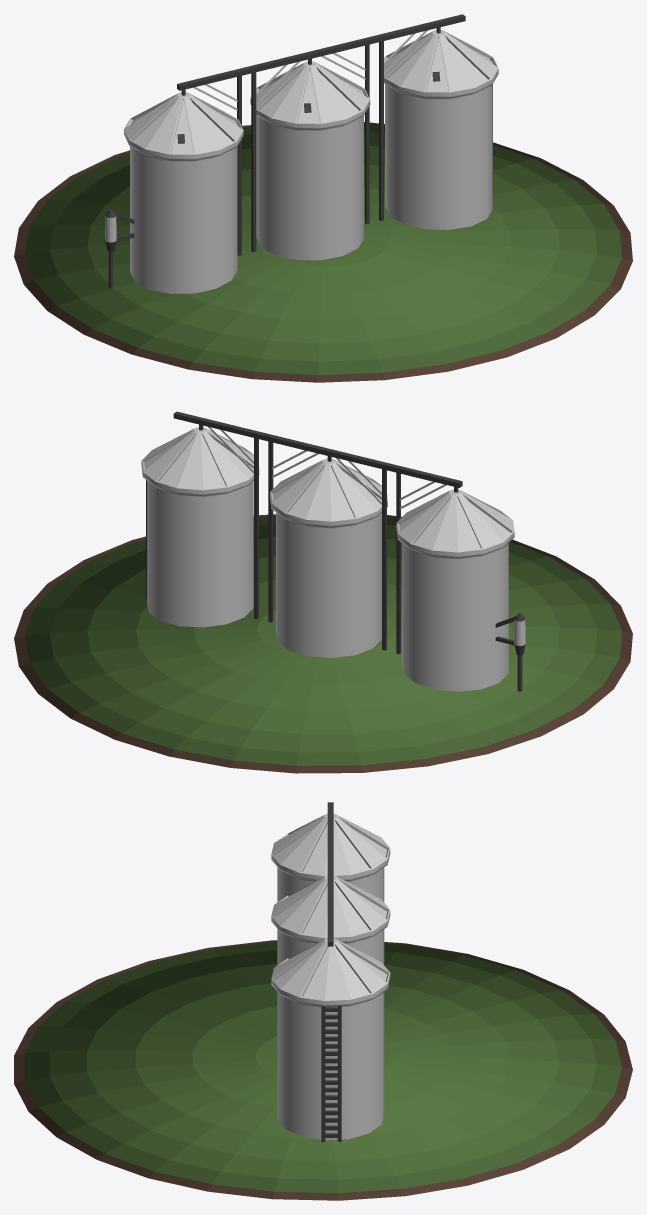
The model's file is 31b82b75-4bbc-4f38-a817-1aeeb68d16bd.glb.
3 renders of one model, top to bottom at view 1: azimuth 30°, elevation 25°; view 2: azimuth 150°, elevation 25°; view 3: azimuth 270°, elevation 25°, orthographic.
Visible parts, largest first — view 1: Sphere001, Cylinder003; view 2: Sphere001, Cylinder003; view 3: Sphere001, Cylinder003.
Part boxes in pixels (bbox=[...]): Sphere001: bbox=[14, 122, 632, 382]; Cylinder003: bbox=[105, 14, 498, 293]; Sphere001: bbox=[14, 514, 632, 773]; Cylinder003: bbox=[141, 411, 525, 691]; Sphere001: bbox=[14, 940, 632, 1200]; Cylinder003: bbox=[271, 802, 390, 1141].
Bounding box in the file's own units: 116 × 40.96 × 116.
